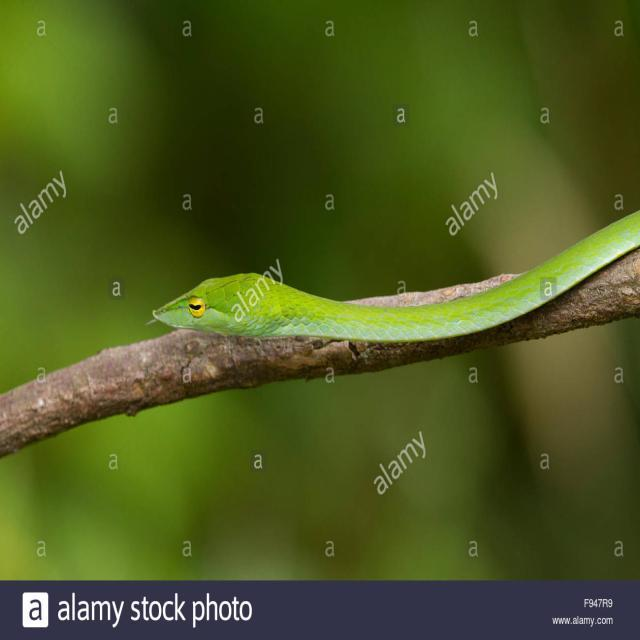Snake: (138, 201, 640, 366)
